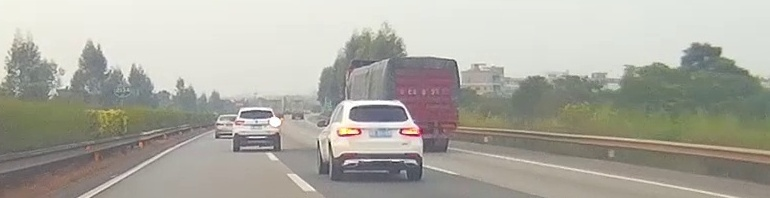L_light: (337, 127, 361, 136), (235, 120, 245, 125), (268, 120, 278, 124)
R_light: (399, 127, 420, 135)
T_light: (371, 103, 383, 106), (251, 109, 260, 112)
day-no: (335, 99, 422, 181)
day-right: (234, 107, 281, 151)
